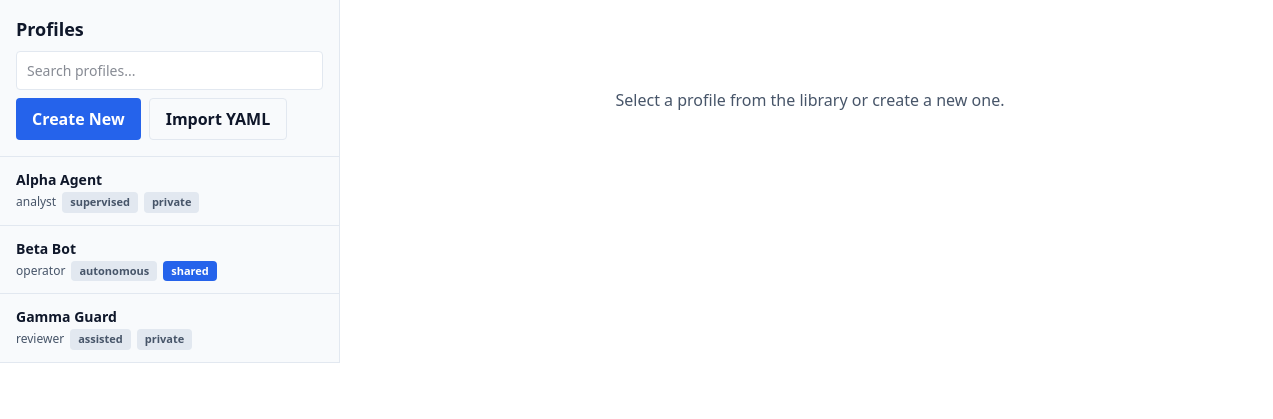
ProfilesPage — import YAML flow › hides import dialog when Cancel is clicked
The width and height of the screenshot is (1273, 419).
Click the button "Import YAML" at (218, 119), box [149, 98, 287, 140]
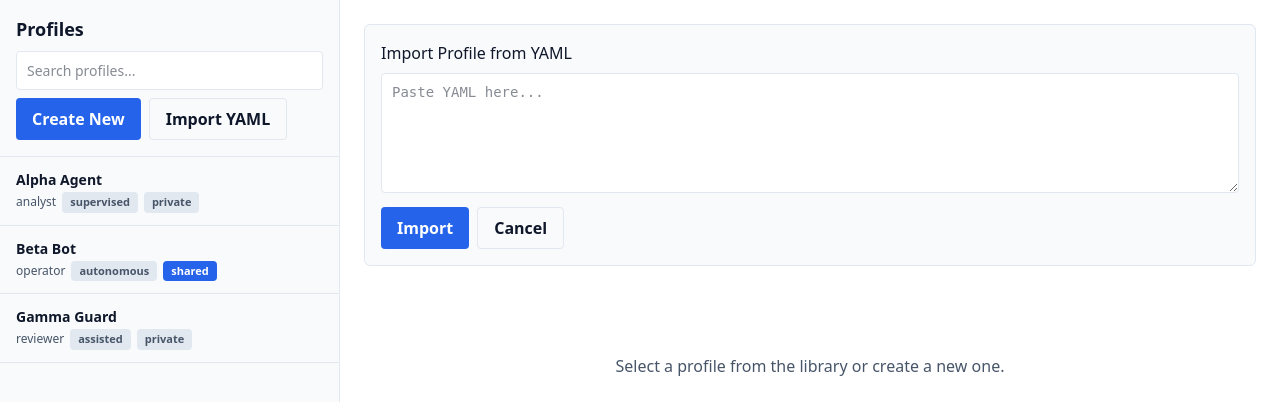
Now the heading "Import Profile from YAML" is shown, box [381, 42, 572, 64]
Click the button "Cancel" at (521, 228), box [477, 207, 564, 249]
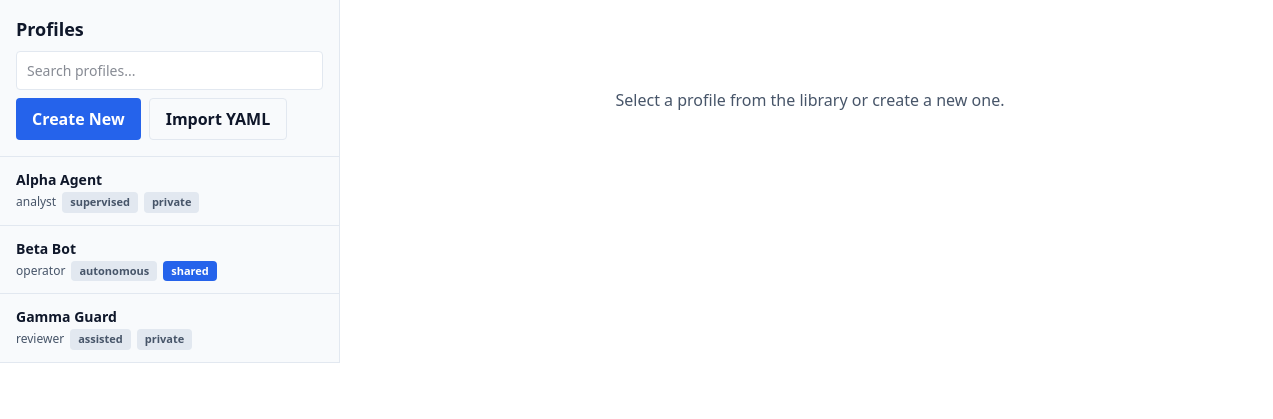
Now the heading "Import Profile from YAML" is gone
